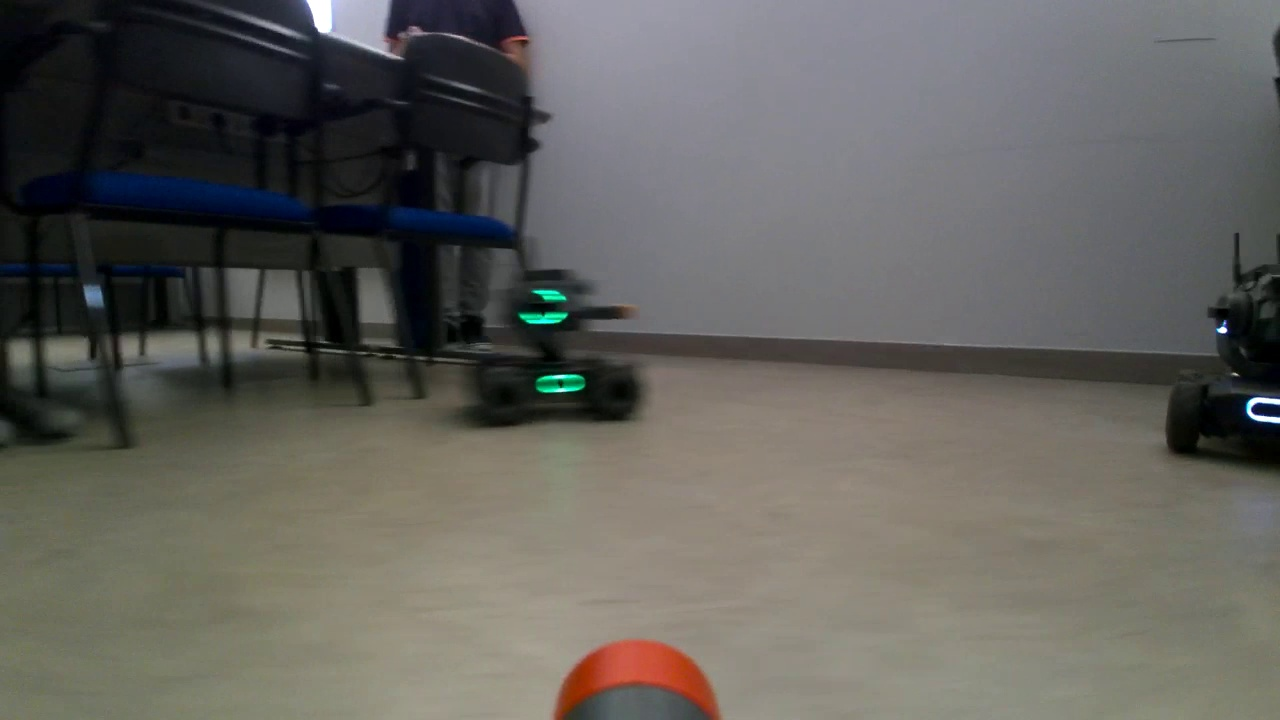robot: (471, 270, 648, 422), (1163, 232, 1280, 461)
